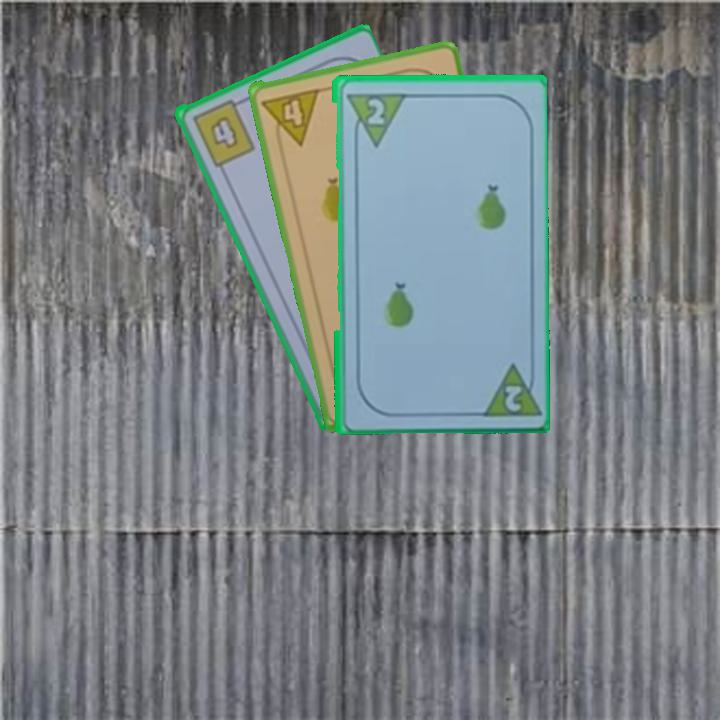2p: (360, 94, 387, 127), (501, 381, 527, 414)
4b: (188, 95, 257, 170)
4p: (258, 84, 323, 151)
